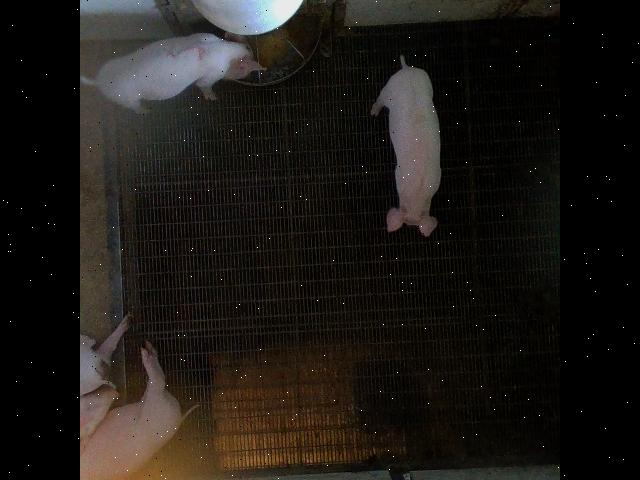pig-5: (82, 32, 265, 112)
